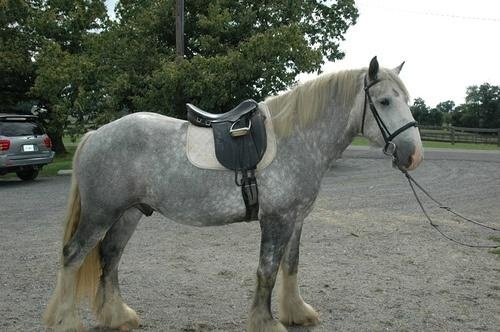car: (2, 115, 57, 182)
horse: (43, 56, 424, 332)
